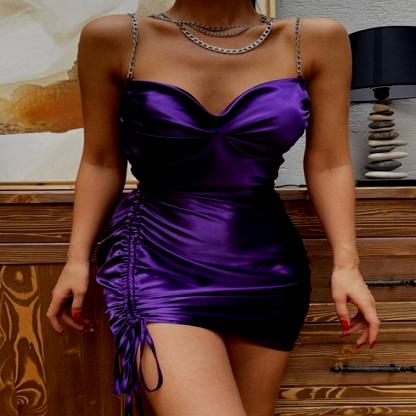jacket: (90, 4, 310, 408)
